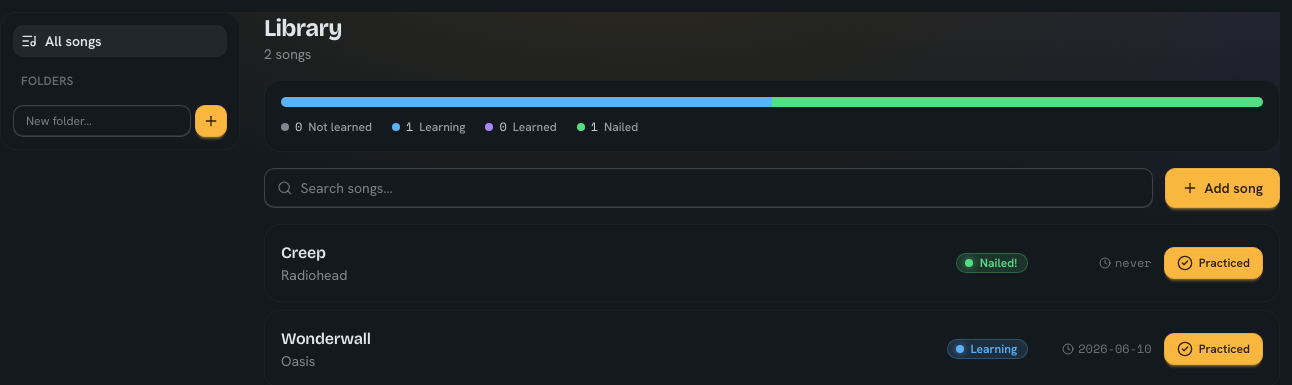
Test: HomePage library › filters with the search box
Expected: the text "Wonderwall" is shown, [281,329,371,348]
In the field with placeholder "Search songs…": x=720, y=188 [301,169,1140,207], type "creep"
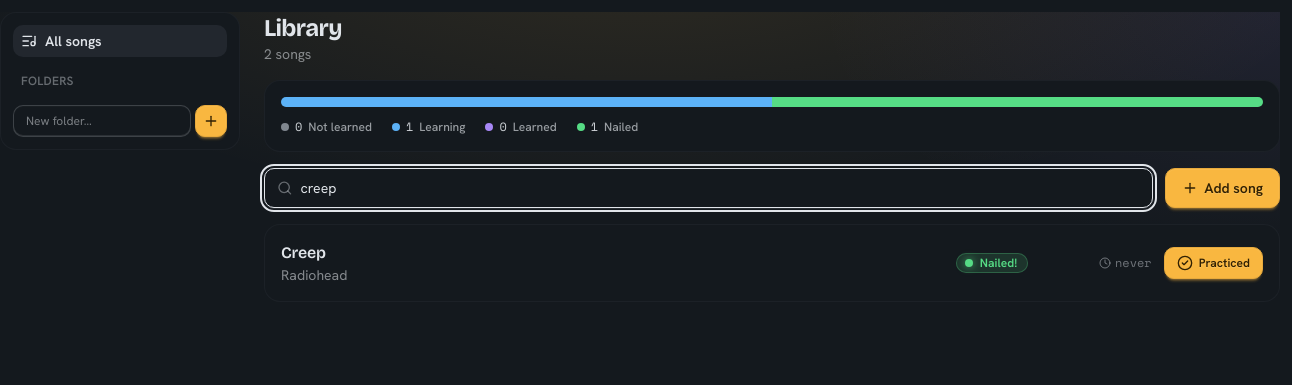
Expected: the text "Creep" is shown, [281,243,326,262]
Expected: the link "Wonderwall" is gone
